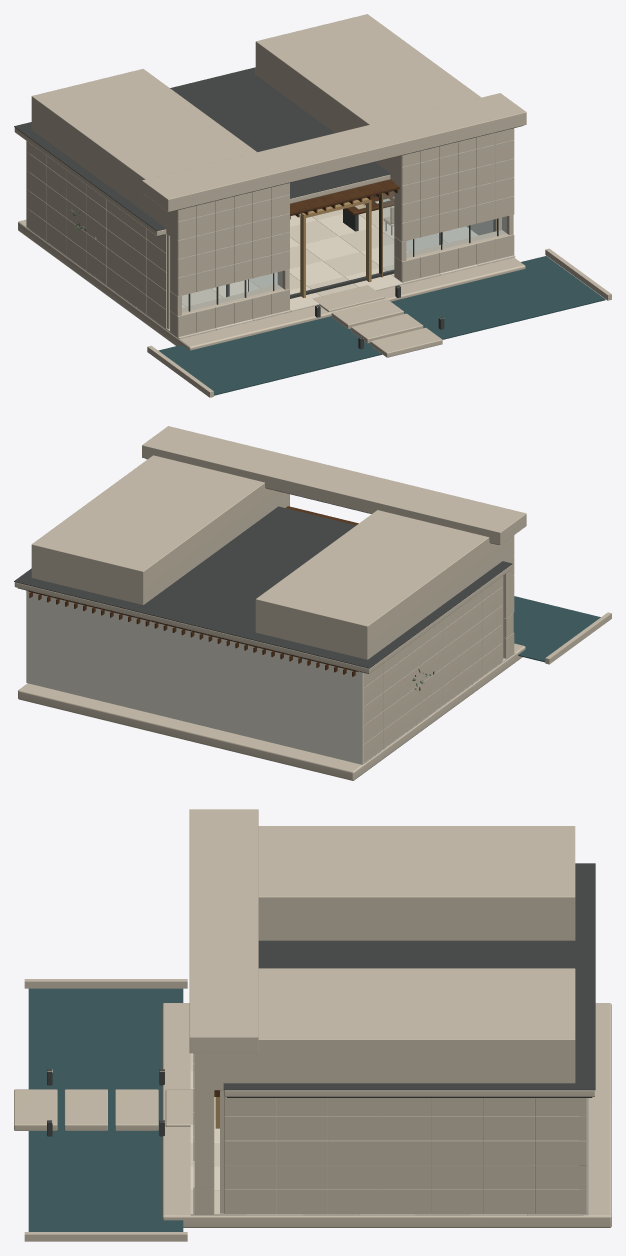
Rendered from lab-pavilion.glb.
3 renders of one model, top to bottom at view 1: azimuth 30°, elevation 25°; view 2: azimuth 150°, elevation 25°; view 3: azimuth 270°, elevation 25°, orthographic. The views are drawn at different scales.
Visible parts, largest first — view 1: Baked architecture, Still reflecting pool, Bronze frames, Architectural glass, Brushed brass; view 2: Baked architecture, Bronze frames, Still reflecting pool; view 3: Baked architecture, Still reflecting pool, Bronze frames.
Boxes of the visible parts, x1=… form: Baked architecture: x1=14, y1=14, x2=611, y2=397; Still reflecting pool: x1=158, y1=256, x2=605, y2=395; Bronze frames: x1=14, y1=67, x2=522, y2=349; Architectural glass: x1=182, y1=191, x2=506, y2=312; Brushed brass: x1=228, y1=193, x2=496, y2=297; Baked architecture: x1=14, y1=426, x2=611, y2=780; Bronze frames: x1=14, y1=459, x2=512, y2=673; Still reflecting pool: x1=513, y1=596, x2=600, y2=662; Baked architecture: x1=14, y1=809, x2=611, y2=1241; Still reflecting pool: x1=28, y1=988, x2=183, y2=1231; Bronze frames: x1=47, y1=863, x2=595, y2=1136.
Size of what is drawn, in the model's own units: 21.52 by 7.8 by 21.27.
15 materials, 7 textured.
